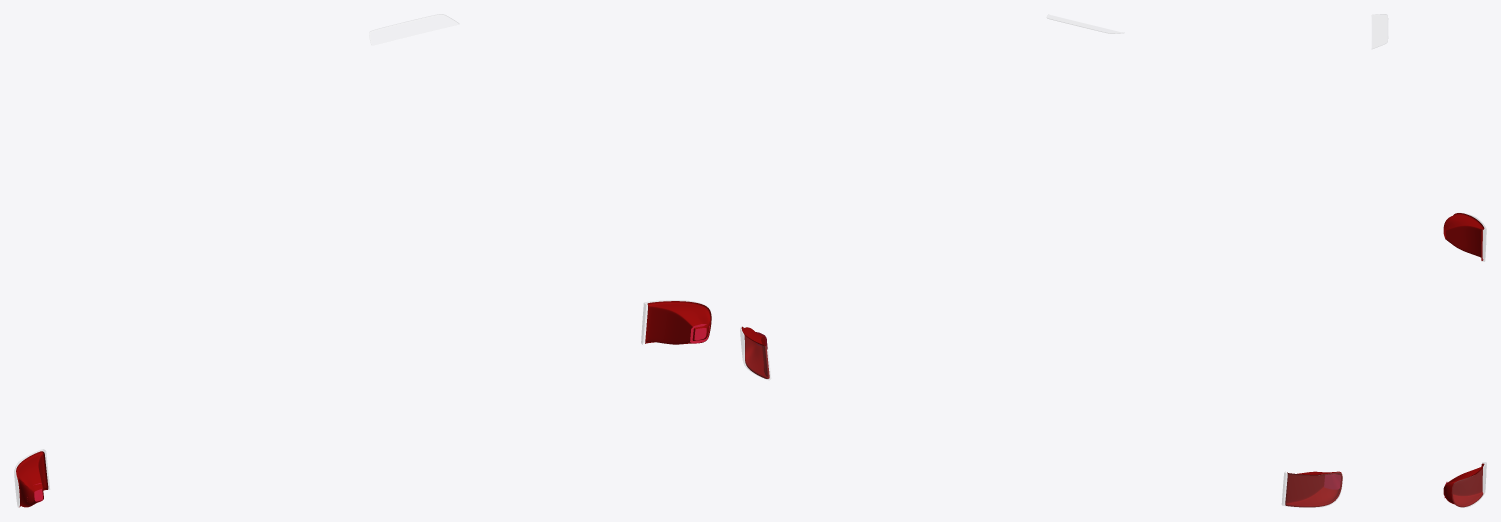
File: катафотсток.gltf
3 renders of one model, left to right at view 1: azimuth 30°, elevation 25°; view 2: azimuth 150°, elevation 25°; view 3: azimuth 270°, elevation 25°, orthographic. The views are drawn at different scales.
Parts seen in each view (by area): view 1: ¶ÔÏó038, polySurface977; view 2: polySurface977, ¶ÔÏó038; view 3: ¶ÔÏó038, polySurface977.
Part boxes in pixels (x1=…): ¶ÔÏó038: x1=16, y1=301, x2=711, y2=507; polySurface977: x1=14, y1=14, x2=710, y2=507; polySurface977: x1=740, y1=15, x2=1342, y2=507; ¶ÔÏó038: x1=741, y1=326, x2=1342, y2=507; ¶ÔÏó038: x1=1443, y1=213, x2=1484, y2=507; polySurface977: x1=1372, y1=14, x2=1486, y2=507.
Bounding box in the file's own units: 2.17 × 1.31 × 0.3924.
